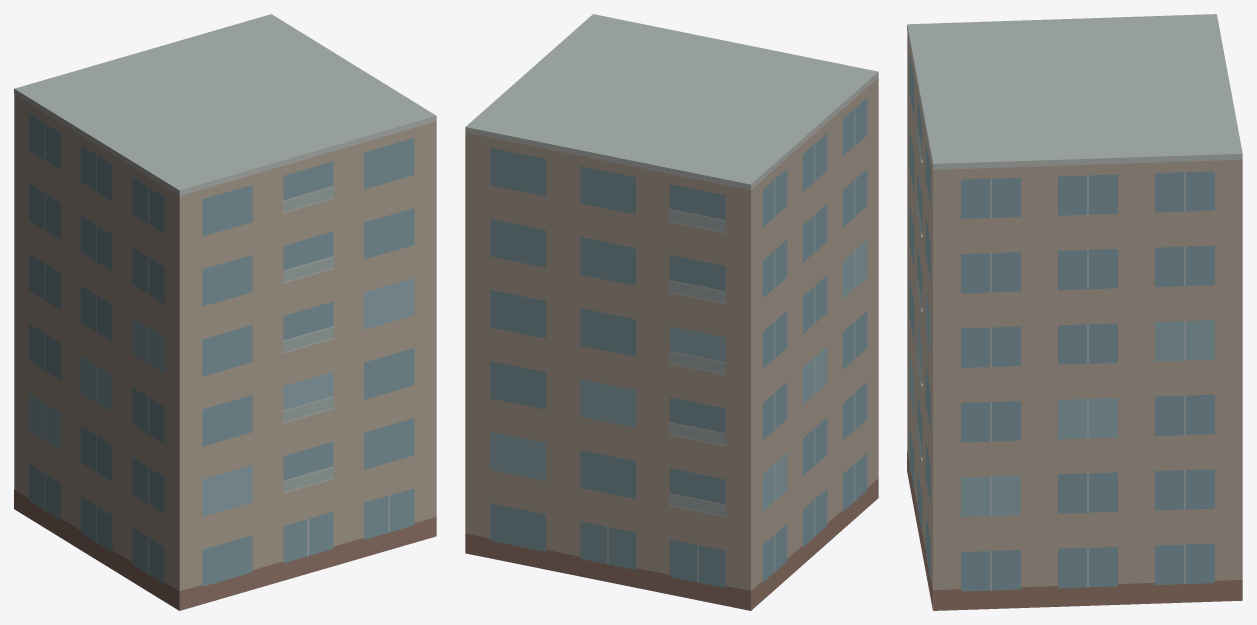
File: survey-upis-32723104.glb
3 renders of one model, left to right at view 1: azimuth 30°, elevation 25°; view 2: azimuth 150°, elevation 25°; view 3: azimuth 270°, elevation 25°, orthographic. The views are drawn at different scales.
Parts seen in each view (by area): view 1: survey-upis-32723104.tmp; view 2: survey-upis-32723104.tmp; view 3: survey-upis-32723104.tmp.
Part boxes in pixels (box(x1,y1,x2,y2)): survey-upis-32723104.tmp: box(14, 14, 436, 610); survey-upis-32723104.tmp: box(465, 14, 878, 610); survey-upis-32723104.tmp: box(907, 14, 1242, 610).
Bounding box in the file's own units: 13.18 × 18.3 × 12.46.
